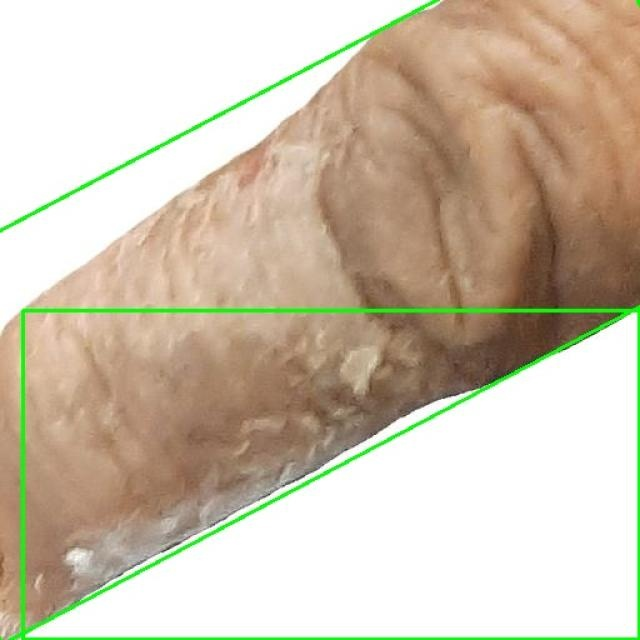Eczema: (0, 0, 640, 640), (22, 310, 639, 639)
